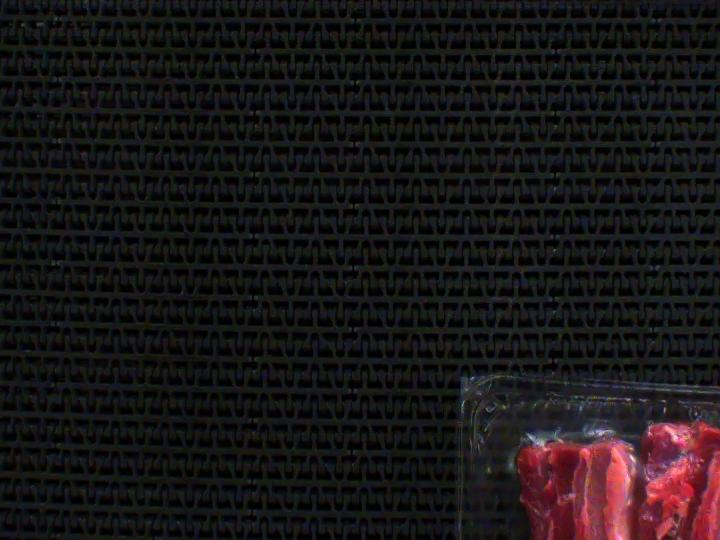unsealed: (487, 385, 720, 540)
